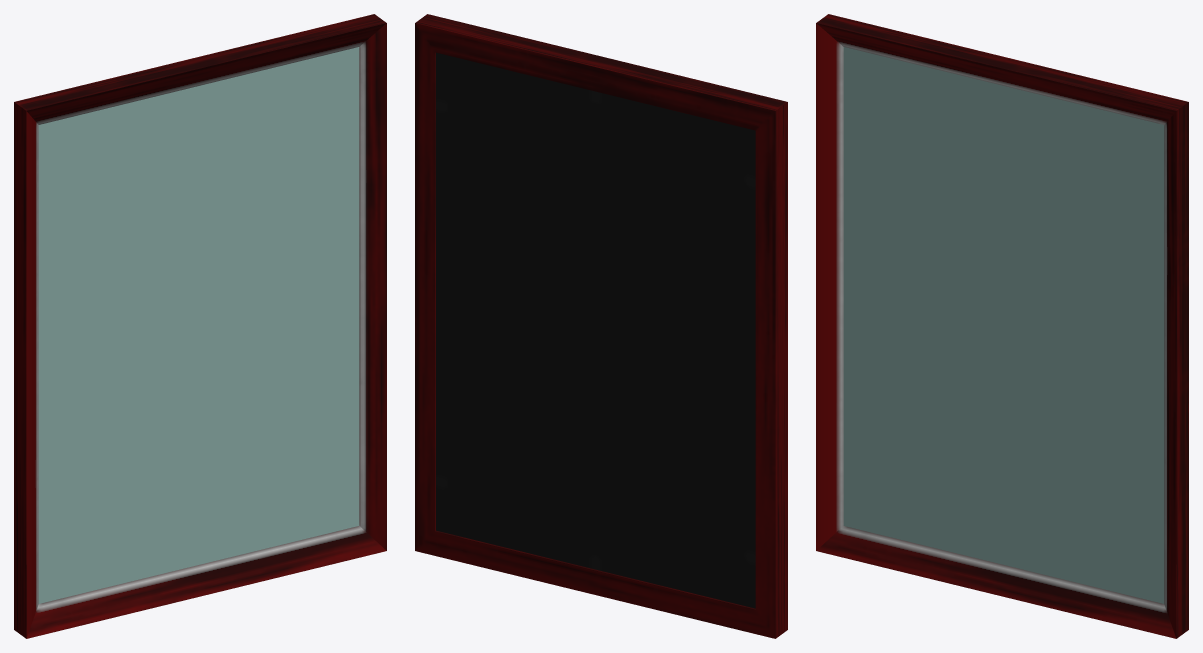
File: CertificateC.fbx
The picture shows the model from 3 angles, left to right: view 1: azimuth 30°, elevation 25°; view 2: azimuth 150°, elevation 25°; view 3: azimuth 330°, elevation 25°; orthographic projection.
Parts seen in each view (by area): view 1: CertificateC; view 2: CertificateC; view 3: CertificateC.
Part boxes in pixels (box(x1,y1,x2,y2)): CertificateC: box(14, 14, 386, 638); CertificateC: box(415, 14, 787, 638); CertificateC: box(816, 14, 1188, 638).
Size of the model in its own units: 35.47 by 49.65 by 2.11.
